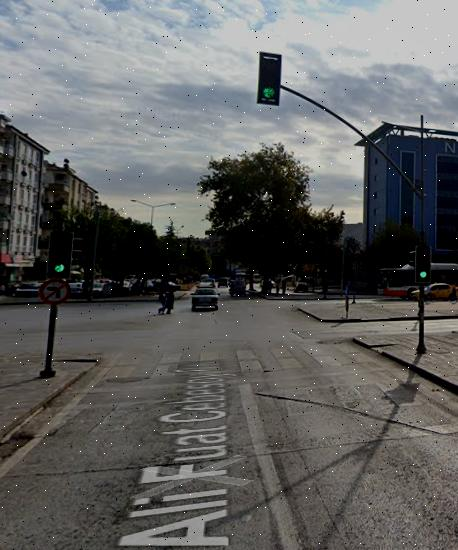greenlight: (260, 50, 282, 109), (49, 228, 69, 279), (416, 249, 429, 281)
leftturnsareforbidden: (43, 278, 68, 304)
